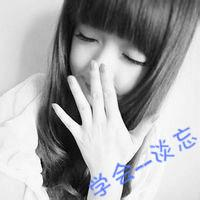face: (67, 1, 156, 105)
